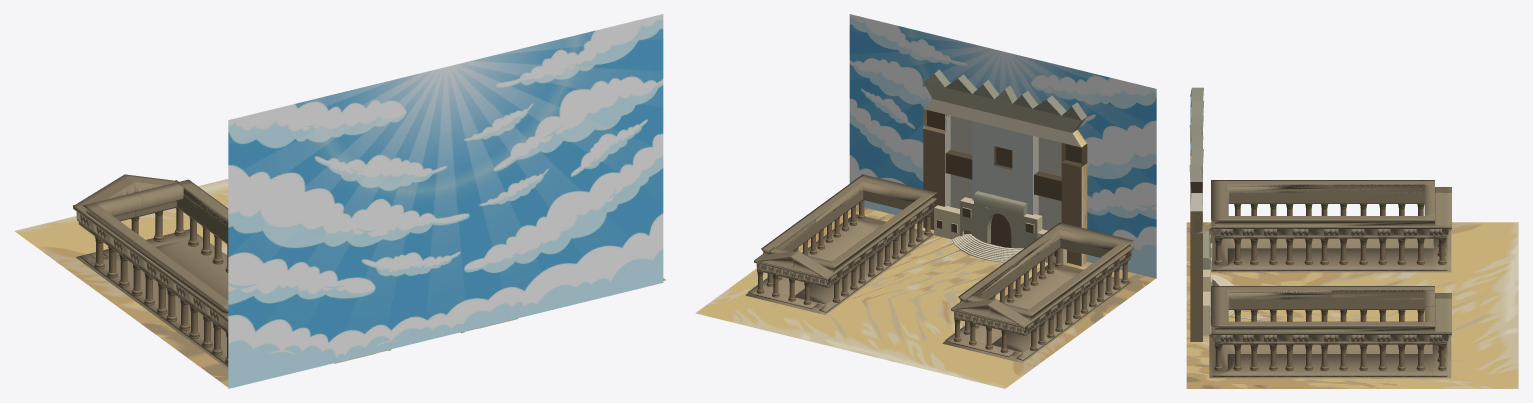
Rendered from beit hamikdashd (1) (1).fbx.
The picture shows the model from 3 angles, left to right: view 1: azimuth 30°, elevation 25°; view 2: azimuth 150°, elevation 25°; view 3: azimuth 270°, elevation 25°; orthographic projection. The views are drawn at different scales.
Visible parts, largest first — view 1: cielo, parte de arrib, piso, parte de abajo; view 2: cielo, piso, templo, parte de arrib, parte de ariba, parte de abajo, parte de abajo.001, parte de bajo templo, puerta templo, escalera; view 3: piso, parte de ariba, parte de arrib, parte de abajo.001, parte de abajo, templo, parte de bajo templo, columnas x3.005, columnas x3.019, columnas x3.007, columnas x3.008, columnas x3.022 (+8 smaller).
Part boxes in pixels (left/top/right/bottom): cielo: left=228, top=14, right=663, bottom=388; parte de arrib: left=72, top=174, right=228, bottom=333; piso: left=14, top=179, right=666, bottom=386; parte de abajo: left=76, top=229, right=228, bottom=368; cielo: left=849, top=14, right=1156, bottom=278; piso: left=695, top=205, right=1155, bottom=388; templo: left=923, top=69, right=1087, bottom=266; parte de arrib: left=951, top=222, right=1134, bottom=335; parte de ariba: left=754, top=174, right=937, bottom=287; parte de abajo: left=942, top=262, right=1132, bottom=363; parte de abajo.001: left=745, top=214, right=934, bottom=314; parte de bajo templo: left=934, top=197, right=1067, bottom=265; puerta templo: left=974, top=191, right=1027, bottom=248; escalera: left=951, top=234, right=1023, bottom=262; piso: left=1186, top=222, right=1518, bottom=388; parte de ariba: left=1211, top=286, right=1451, bottom=344; parte de arrib: left=1211, top=180, right=1451, bottom=238; parte de abajo.001: left=1209, top=334, right=1451, bottom=378; parte de abajo: left=1209, top=228, right=1451, bottom=272; templo: left=1189, top=87, right=1204, bottom=341; parte de bajo templo: left=1203, top=235, right=1212, bottom=335; columnas x3.005: left=1320, top=238, right=1347, bottom=265; columnas x3.019: left=1320, top=344, right=1347, bottom=370; columnas x3.007: left=1250, top=238, right=1277, bottom=265; columnas x3.008: left=1214, top=238, right=1241, bottom=265; columnas x3.022: left=1214, top=344, right=1241, bottom=370.
Bounding box in the file's own units: 12171 × 7390 × 10292.
